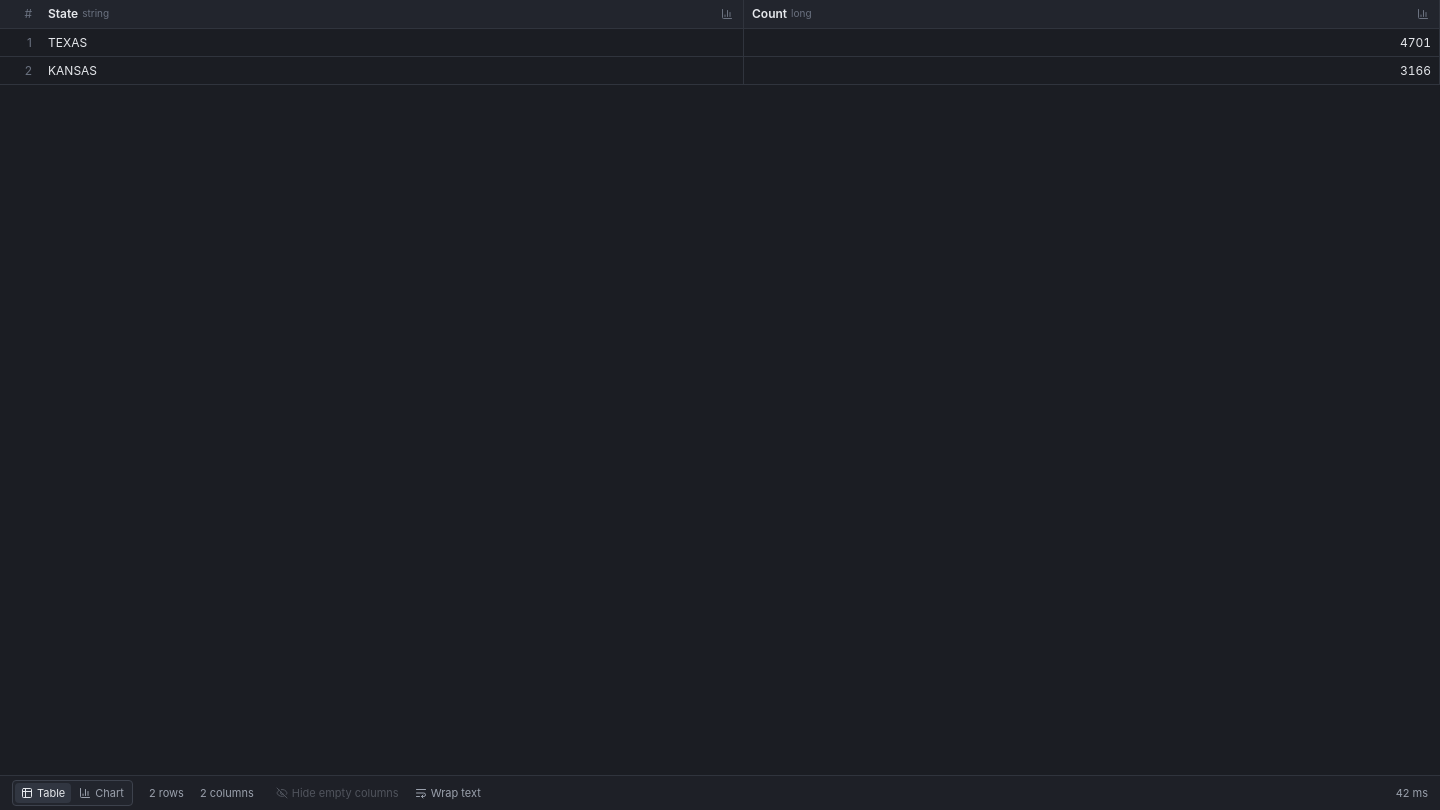
Test case: ResultsView › switches to the chart view via the Table/Chart toggle
Click the button "Chart". click: (102, 793)
box: [73,782,130,803]
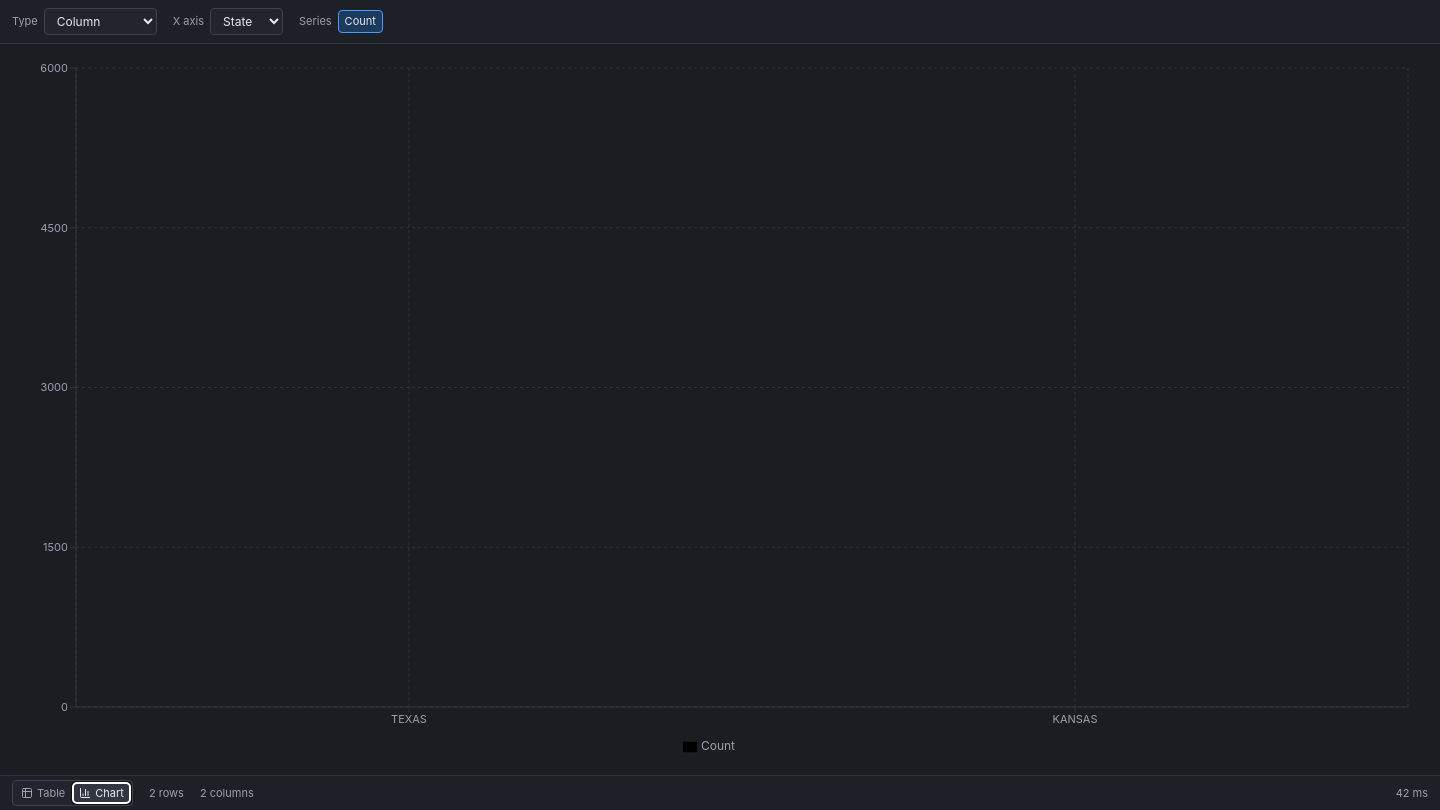
Check: the dropdown named "Chart type" is shown, box [44,8,157,35]
Check: the dropdown named "X axis column" is shown, box [210,8,283,35]
And back to the table.
Click the button "Table". click: (43, 793)
box: [15,782,71,803]
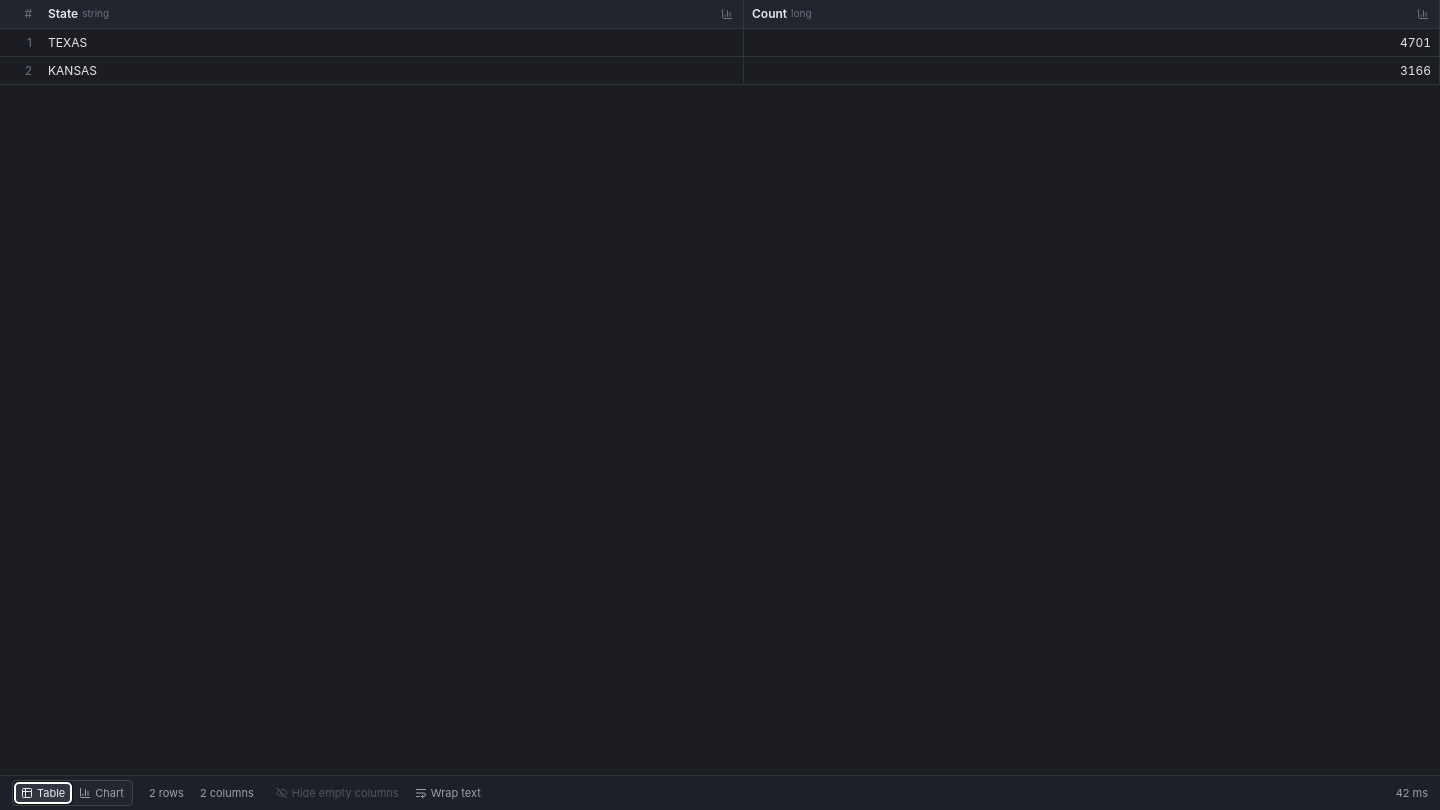
Check: the dropdown labelled "Chart type" is gone
